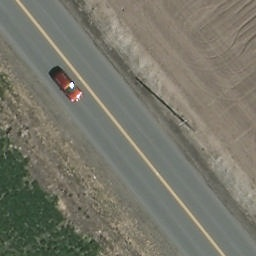car: (49, 68, 85, 104)
